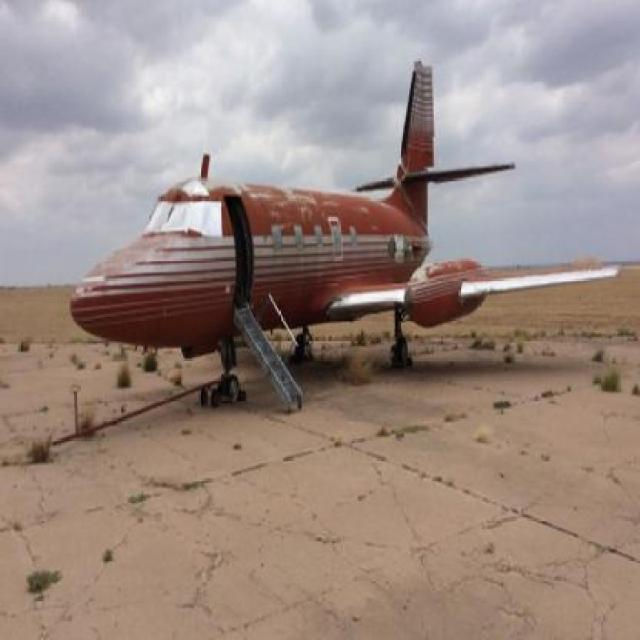corrosion: (71, 65, 486, 382)
